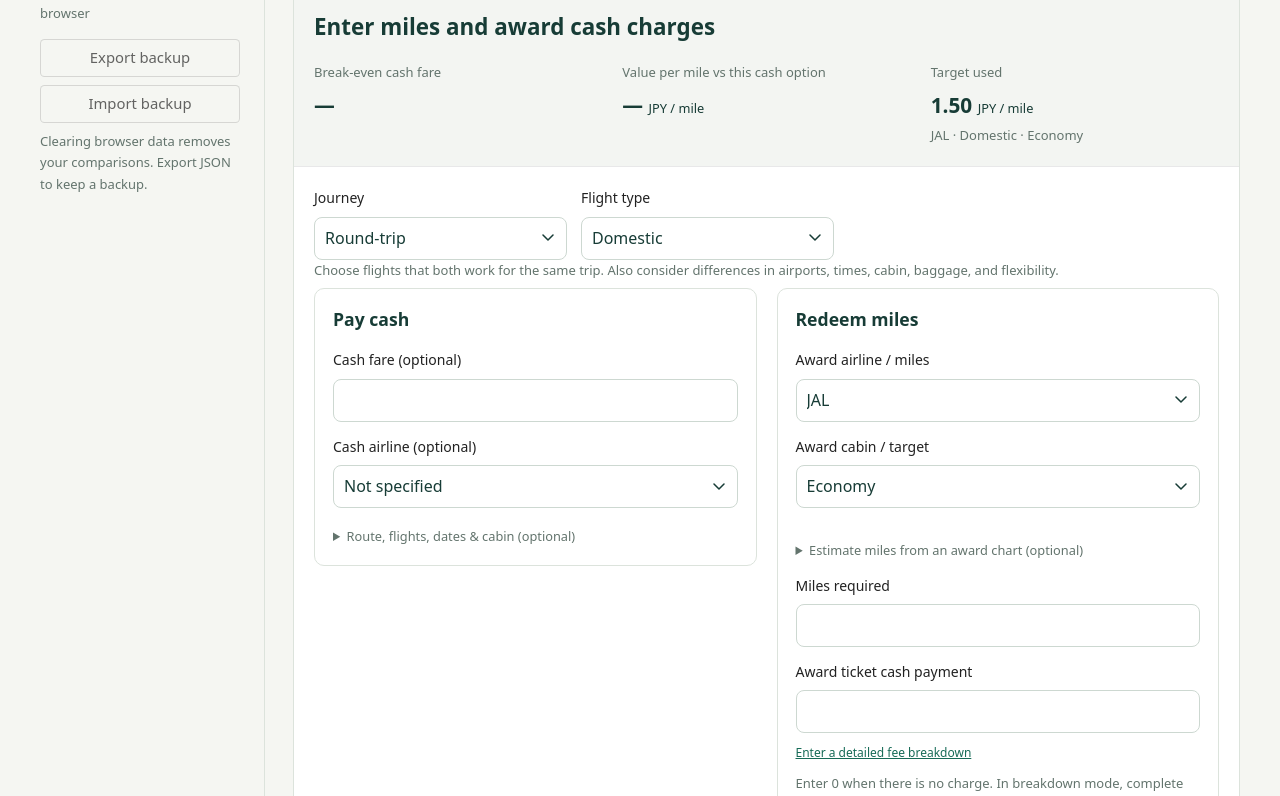
comparison workflow › calculates a redemption and switches the applicable target
The width and height of the screenshot is (1280, 796).
(page scrolled)
Type "50000" into the number field labelled "Cash fare (optional)" at coordinates (535, 400), box [333,379,738,422]
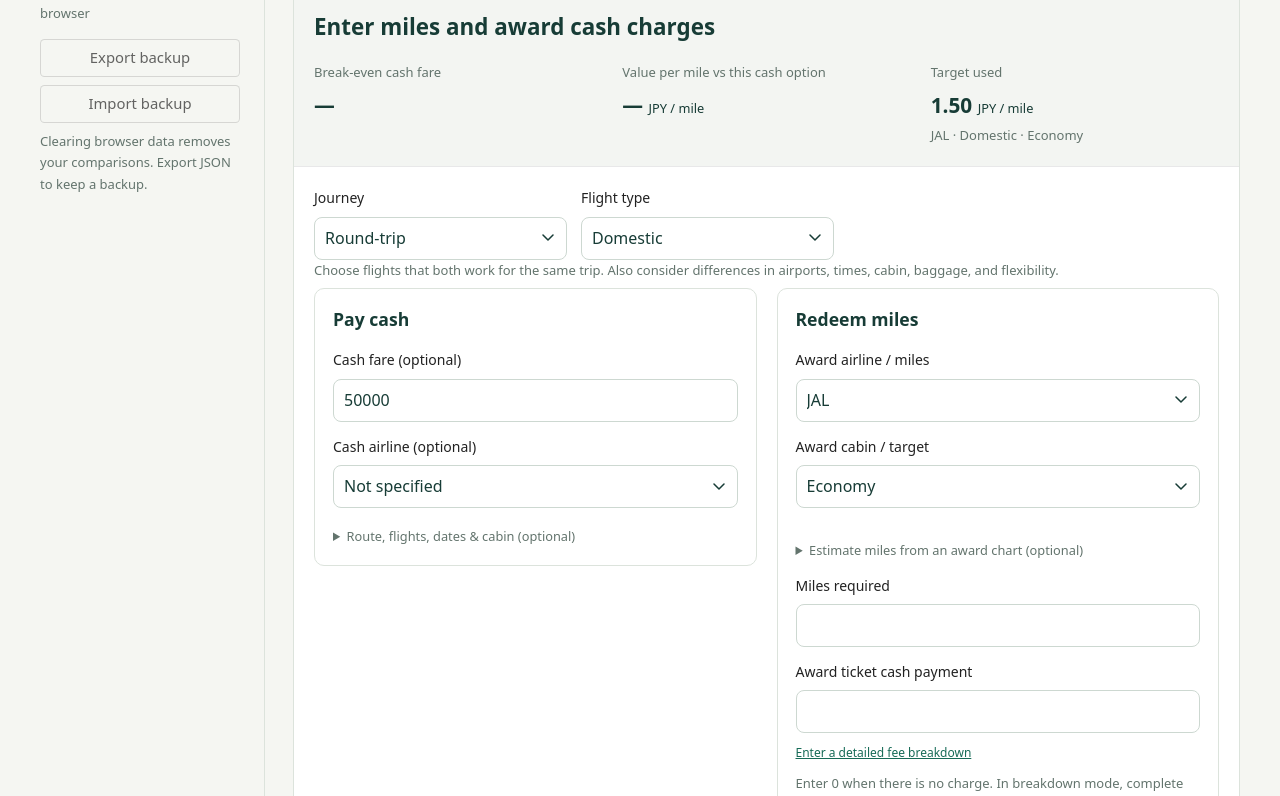
Type "20000" into the number field labelled "Miles required" at coordinates (998, 626), box [796,604,1200,647]
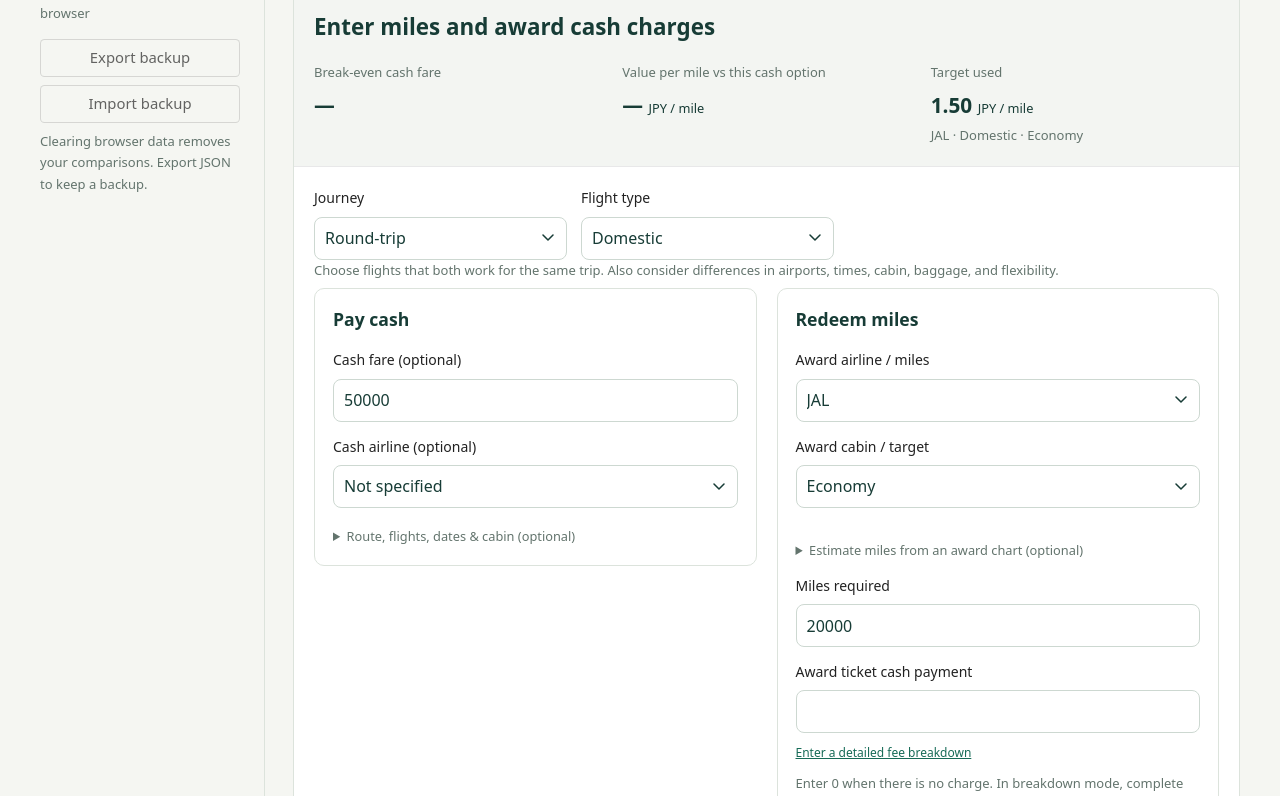
Type "5000" into the number field labelled "Award ticket cash payment" at coordinates (998, 712), box [796,690,1200,734]
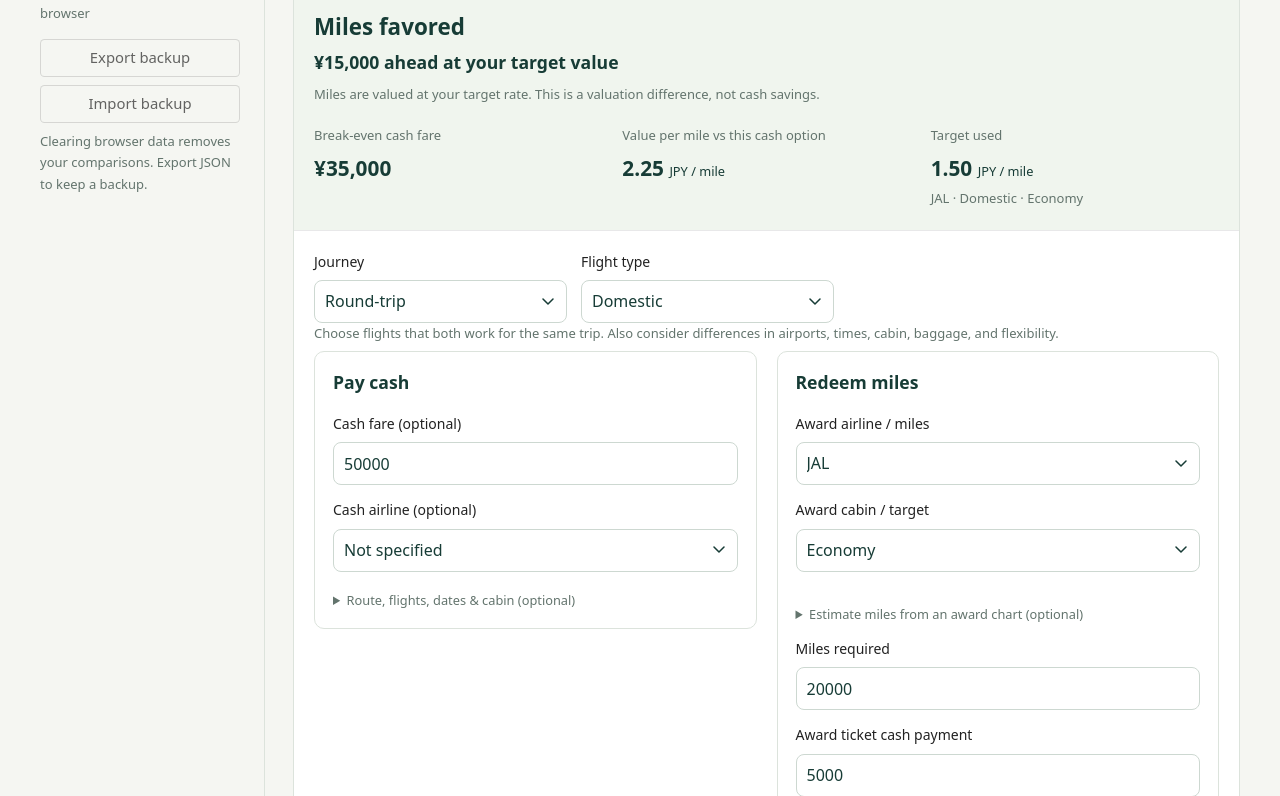
Expected: the text "2.25" is shown, [622,154,664,182]
Expected: the text "¥35,000" is shown, [314,154,391,182]
Select "International" in the dropdown labelled "Flight type" at coordinates (708, 302), box [581,280,834,323]
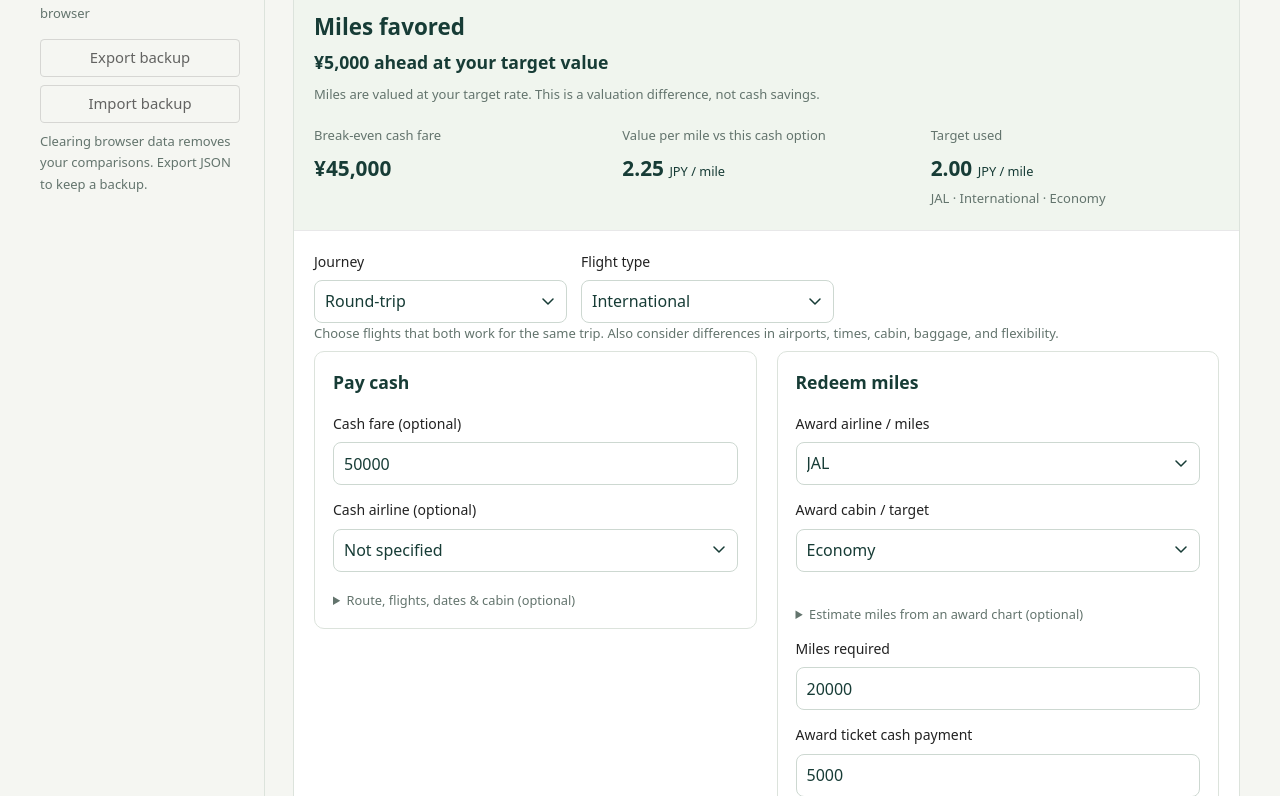
Expected: the heading "Miles favored" is shown, [314,11,465,42]
Expected: the text "¥45,000" is shown, [314,154,391,182]
